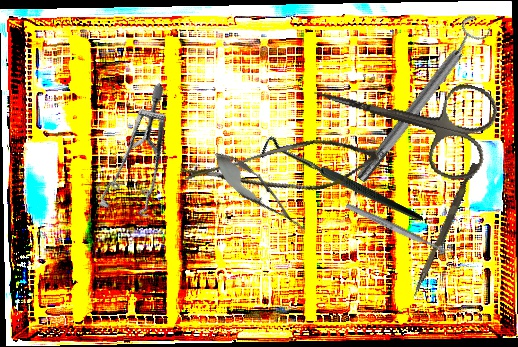Fixation Ring: (347, 12, 494, 189)
Hook Surgical: (254, 92, 425, 276)
Iris Scissors: (301, 44, 503, 187)
Micro Scissor: (180, 113, 383, 227), (205, 143, 314, 242)
Pusher: (411, 160, 479, 300)
Speculum: (64, 82, 221, 236)
Surgical Spoon: (344, 201, 454, 259)
